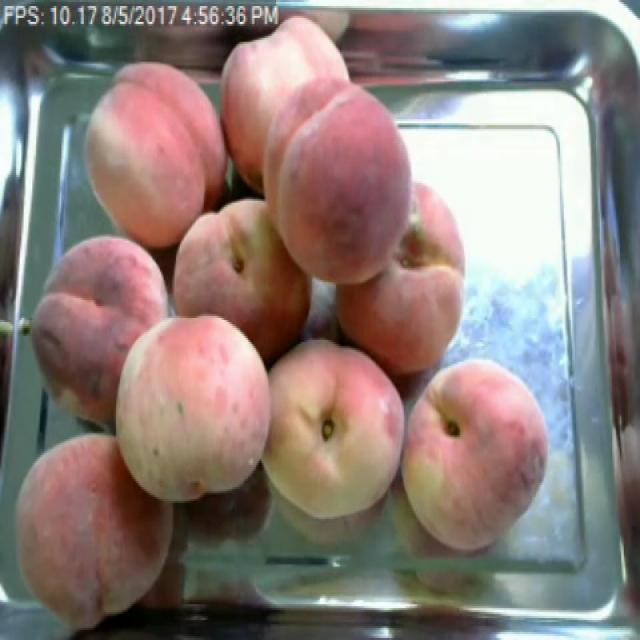Fruit: (95, 300, 288, 523), (0, 417, 192, 640), (15, 223, 185, 457), (389, 352, 562, 564), (256, 84, 427, 298), (251, 328, 416, 535), (326, 167, 478, 388), (76, 52, 229, 258), (163, 183, 324, 376), (219, 8, 360, 195)
